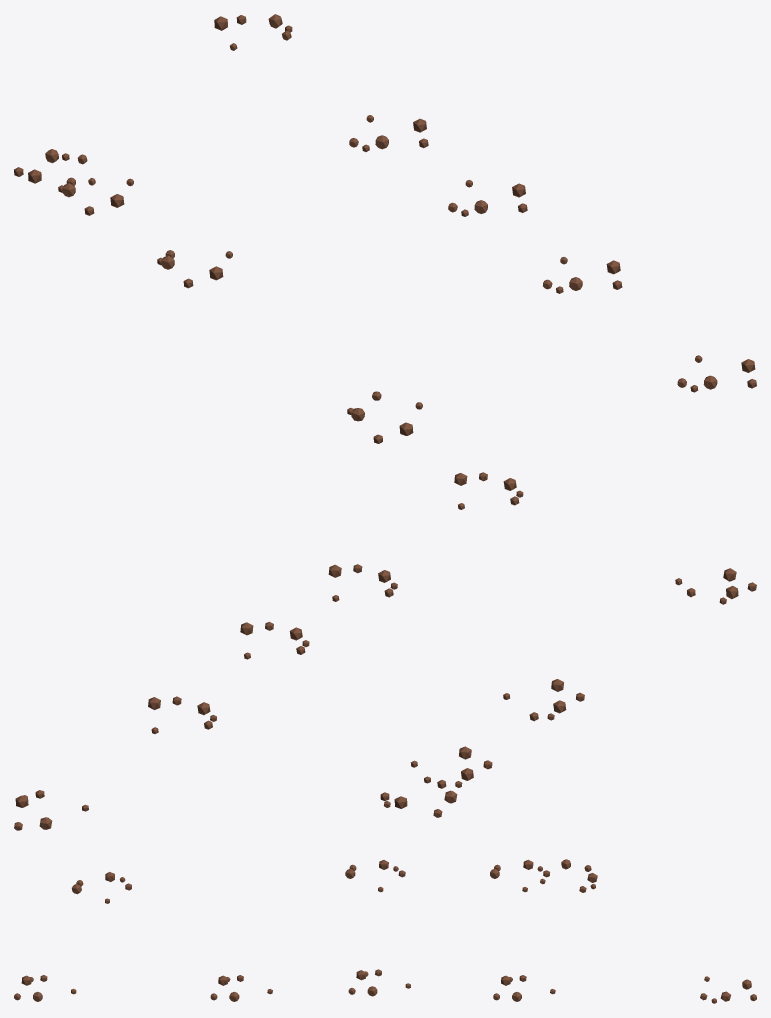
File: SM_SmallStones.fbx
The picture shows the model from 3 angles, top to bottom: view 1: azimuth 30°, elevation 25°; view 2: azimuth 150°, elevation 25°; view 3: azimuth 270°, elevation 25°; orthographic projection. The views are drawn at different scales.
Parts seen in each view (by area): view 1: Icosphere.001; view 2: Icosphere.001; view 3: Icosphere.001.
Part boxes in pixels (x1,y1,x2,y2): Icosphere.001: [14, 14, 756, 443]; Icosphere.001: [14, 472, 756, 830]; Icosphere.001: [14, 859, 756, 1003].
Bounding box in the file's own units: 858 × 82.2 × 2075.
